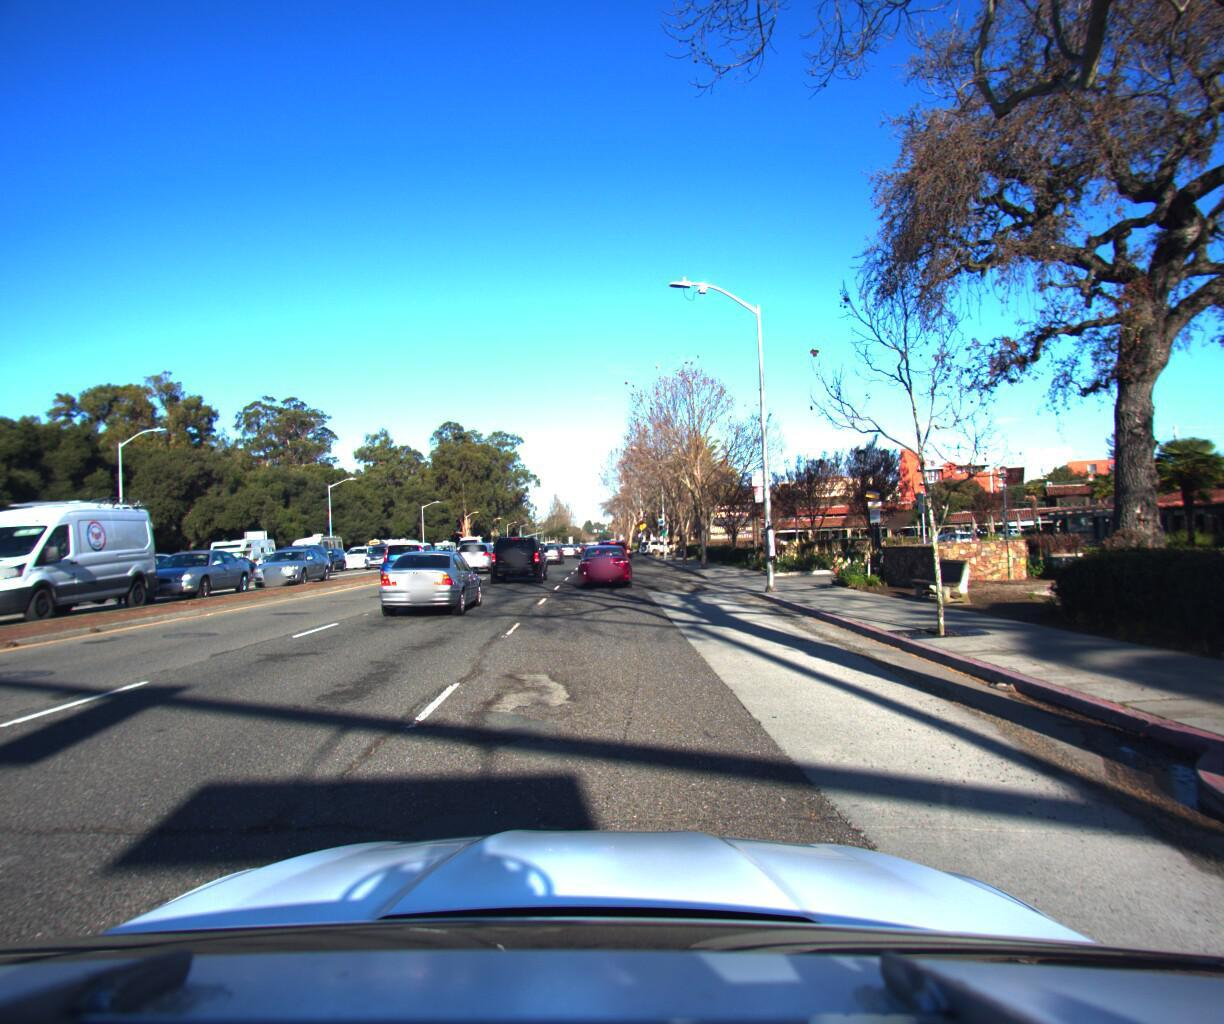car: (0, 478, 171, 630), (124, 539, 267, 597), (376, 541, 486, 616), (0, 547, 78, 622), (248, 538, 340, 580), (485, 523, 546, 578), (373, 534, 444, 580), (0, 556, 52, 616), (575, 535, 634, 583), (455, 532, 502, 567), (593, 530, 631, 567), (0, 544, 18, 616), (363, 533, 409, 561), (342, 535, 384, 562), (449, 526, 486, 554), (538, 535, 567, 557), (634, 530, 677, 545), (556, 533, 575, 549)
other_vehicle: (208, 530, 283, 573), (289, 523, 348, 561)
